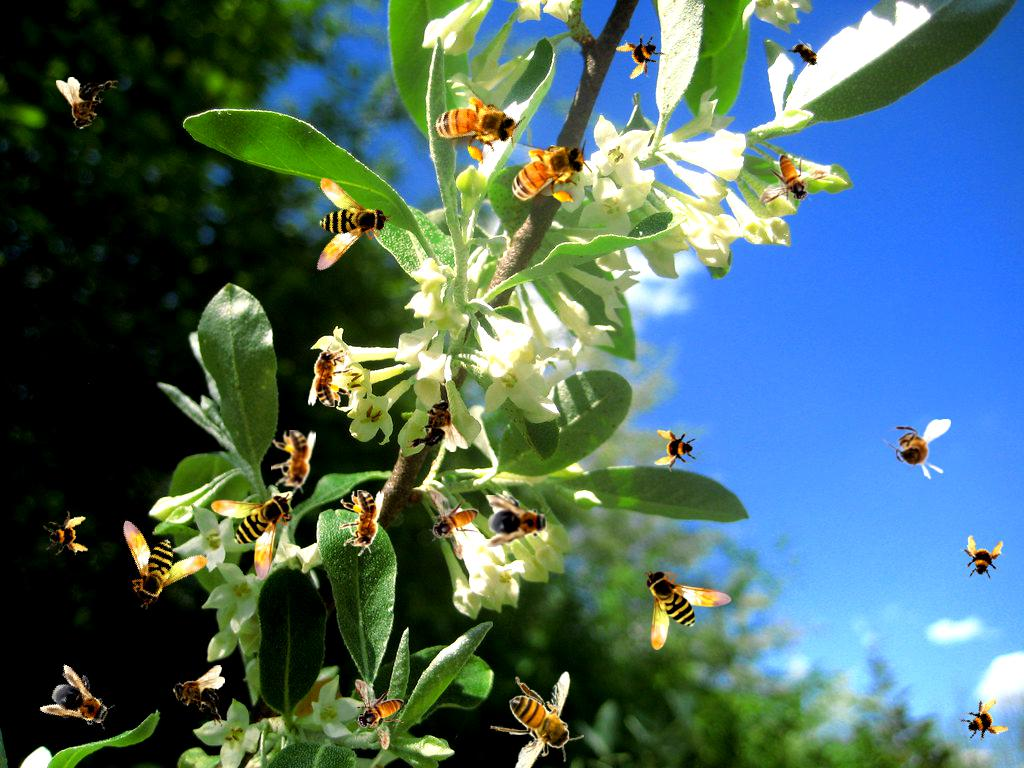Bee: (276, 169, 396, 289), (98, 494, 214, 612), (416, 70, 532, 177), (490, 671, 584, 768), (211, 493, 293, 581), (644, 568, 732, 650), (38, 663, 124, 741), (499, 138, 592, 206), (881, 419, 951, 480), (611, 25, 673, 87), (953, 690, 1013, 750), (429, 489, 479, 560), (354, 679, 404, 750), (759, 154, 830, 204), (484, 495, 552, 547), (171, 664, 226, 728), (56, 77, 118, 130), (406, 399, 468, 452), (308, 341, 353, 407), (271, 430, 316, 496), (339, 490, 384, 556), (40, 508, 92, 560), (956, 533, 1006, 583), (783, 33, 829, 77), (654, 428, 698, 472)
